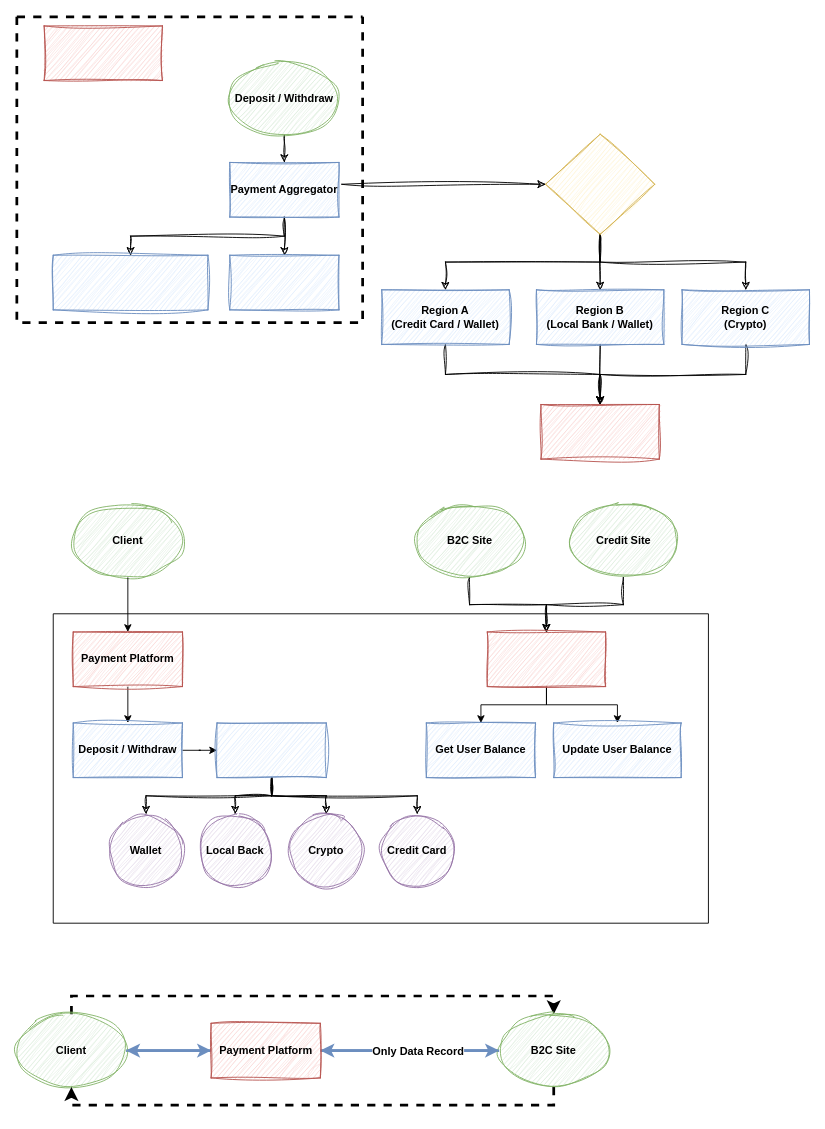
The diagram is 825 pixels wide and 1129 high, and some of its shapes have lost their labels. Each missing label, with the centre of its shape:
"3rd Payment Processing" belongs at point (271, 750).
"AT already developed" belongs at point (102, 53).
"Payment API" belongs at point (546, 659).
"Provider API" belongs at point (599, 431).
"Reporting & Analytics" belongs at point (284, 282).
"Routing by Region" belongs at point (600, 183).
"Settlement & Reconciliation" belongs at point (130, 282).
